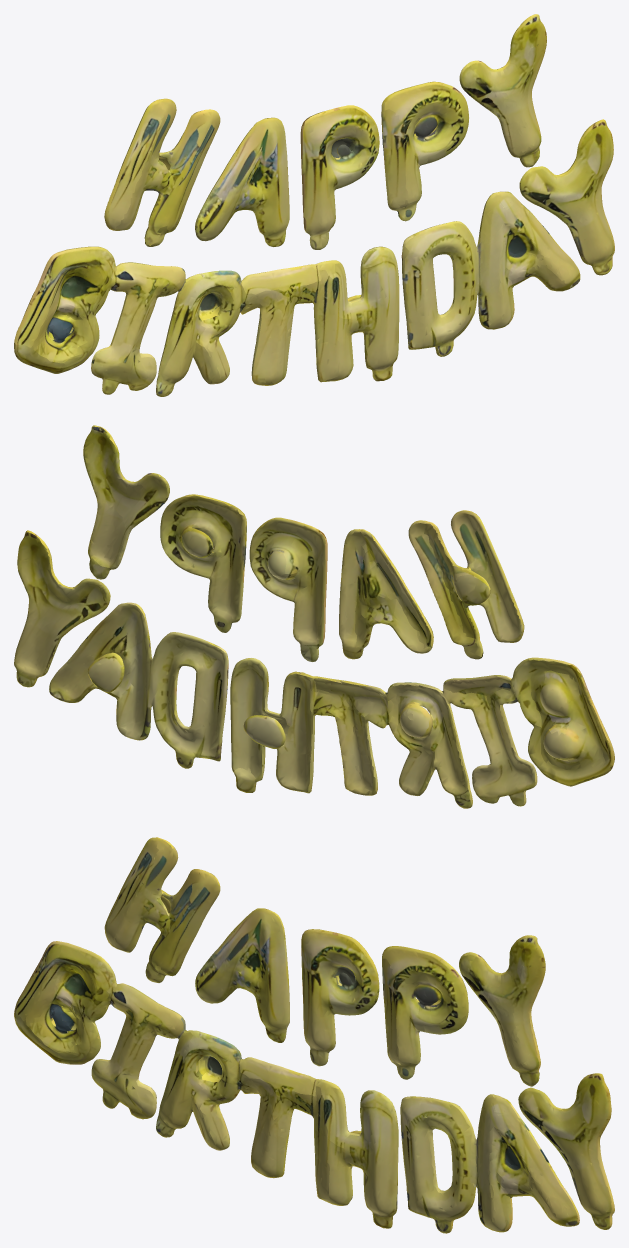
Rendered from hbday.glb.
3 views of the same model, one above another, from view 1: azimuth 30°, elevation 25°; view 2: azimuth 150°, elevation 25°; view 3: azimuth 330°, elevation 25° (orthographic).
Parts seen in each view (by area): view 1: textured_mesh; view 2: textured_mesh; view 3: textured_mesh.
Part boxes in pixels (x1=…): textured_mesh: x1=14, y1=14, x2=614, y2=396; textured_mesh: x1=14, y1=425, x2=614, y2=808; textured_mesh: x1=14, y1=837, x2=614, y2=1233.
Bounding box in the file's own units: 1.99 × 1.07 × 0.0804.
Materials: 1 (1 with a texture image).
